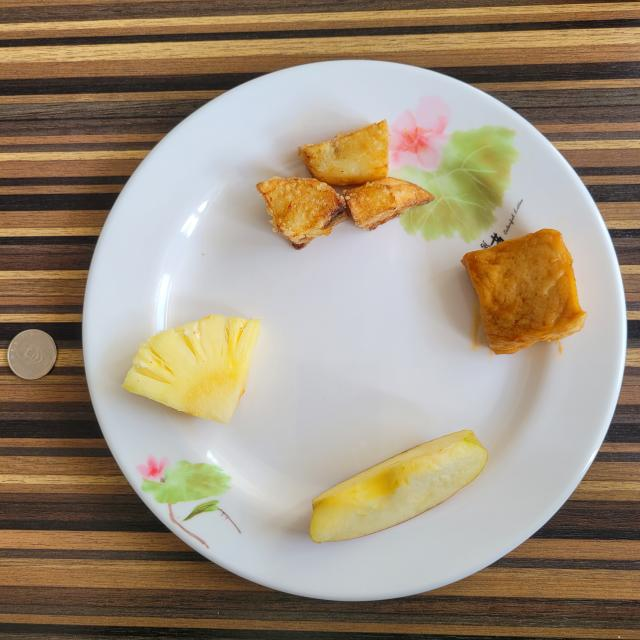apple -sliced-: (310, 430, 488, 542)
coin: (8, 329, 58, 380)
creamy tofu: (461, 229, 586, 354)
fried potato: (256, 120, 434, 249)
pineapple: (122, 315, 261, 424)
